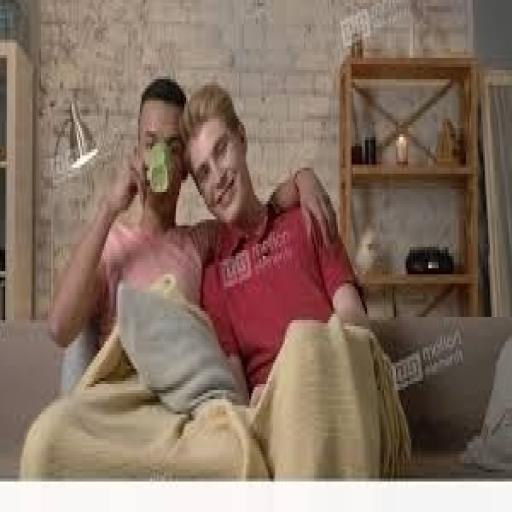sitting: (46, 73, 347, 402)
